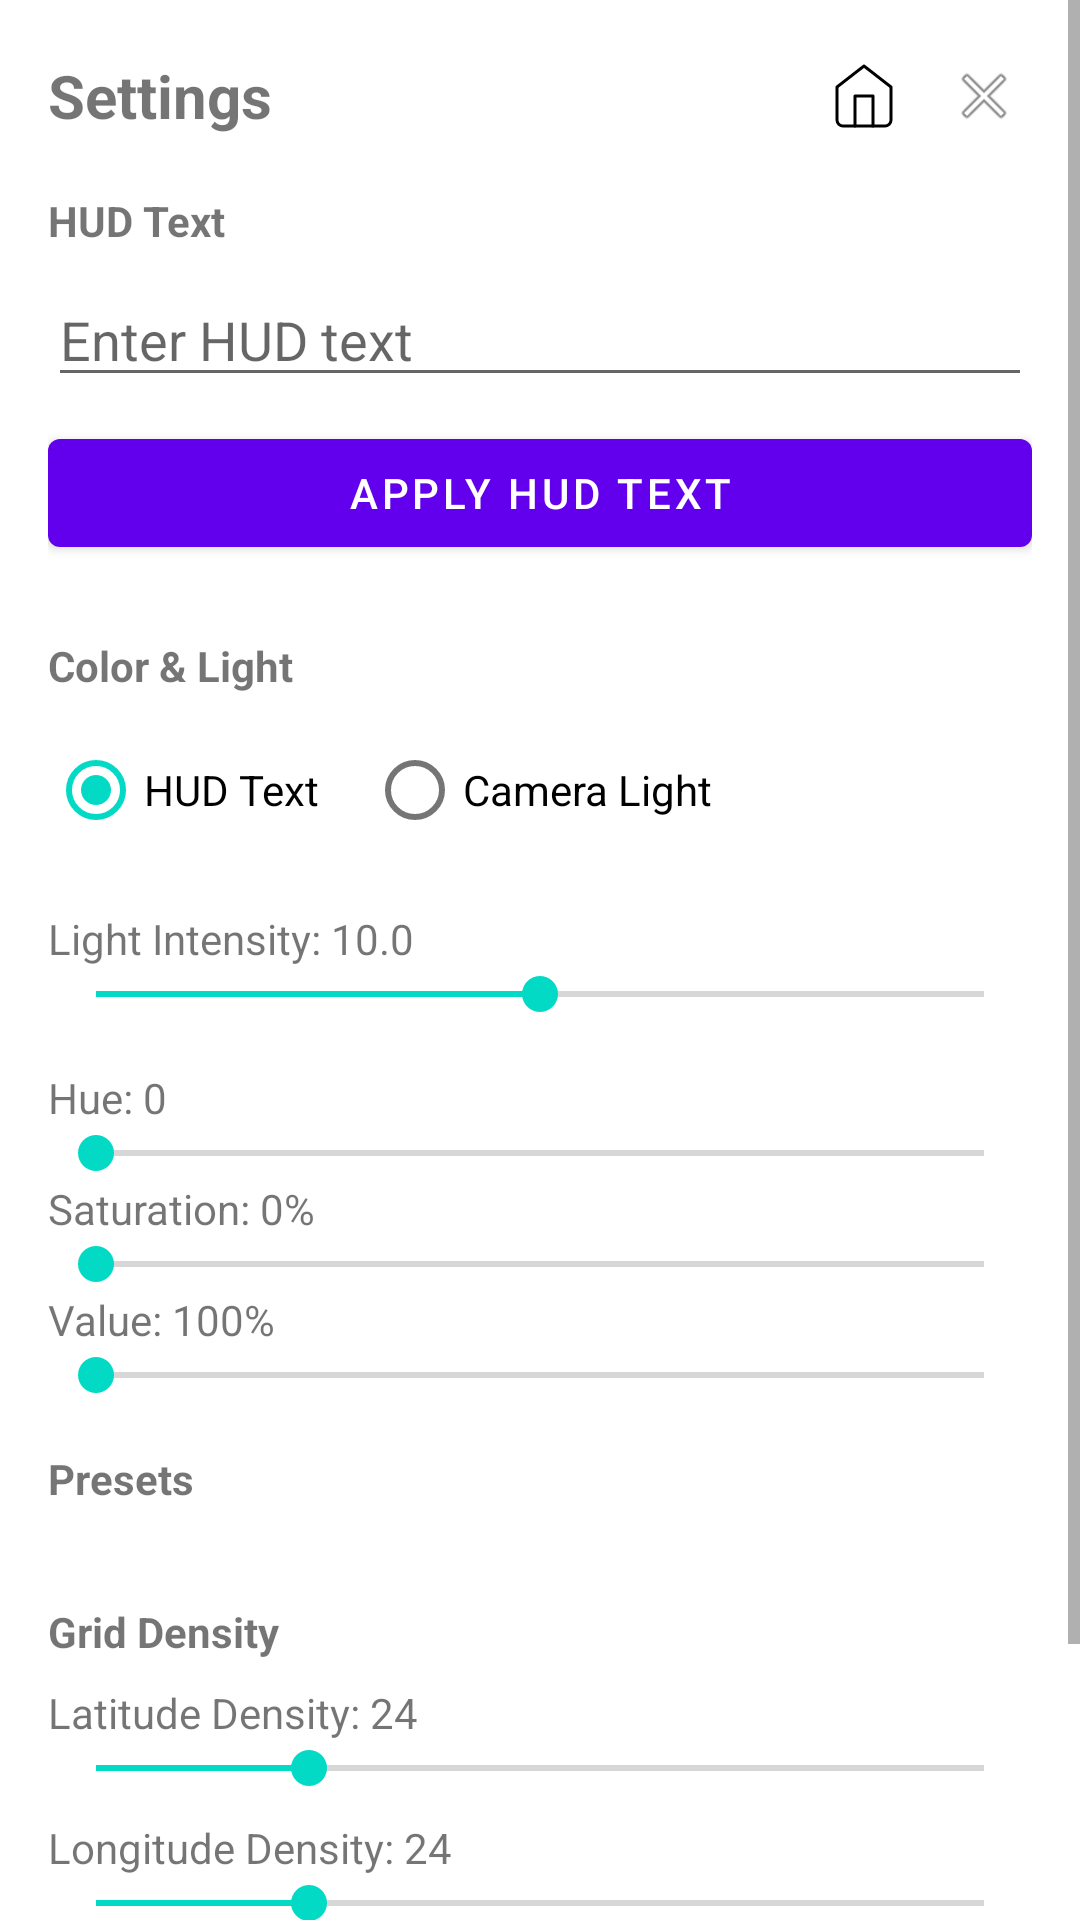

Screen size 1080×1920. Icon name, then its box in pixels as (x1, y1, x2, y2):
Back to Launcher: (835, 64, 893, 128)
